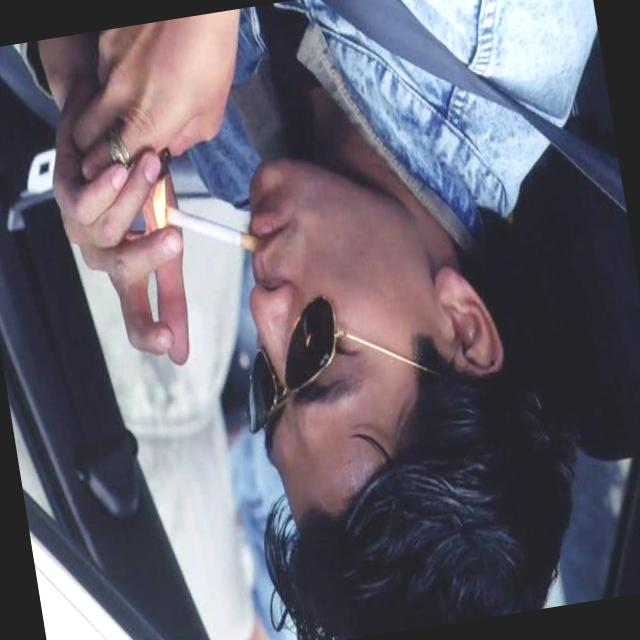cigarette: (159, 185, 271, 274)
